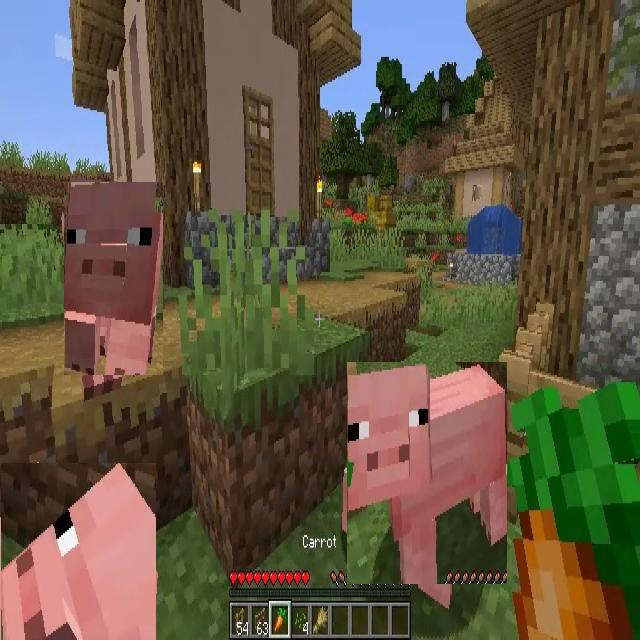pig: (348, 362, 508, 584), (1, 463, 156, 640), (64, 182, 163, 375)
